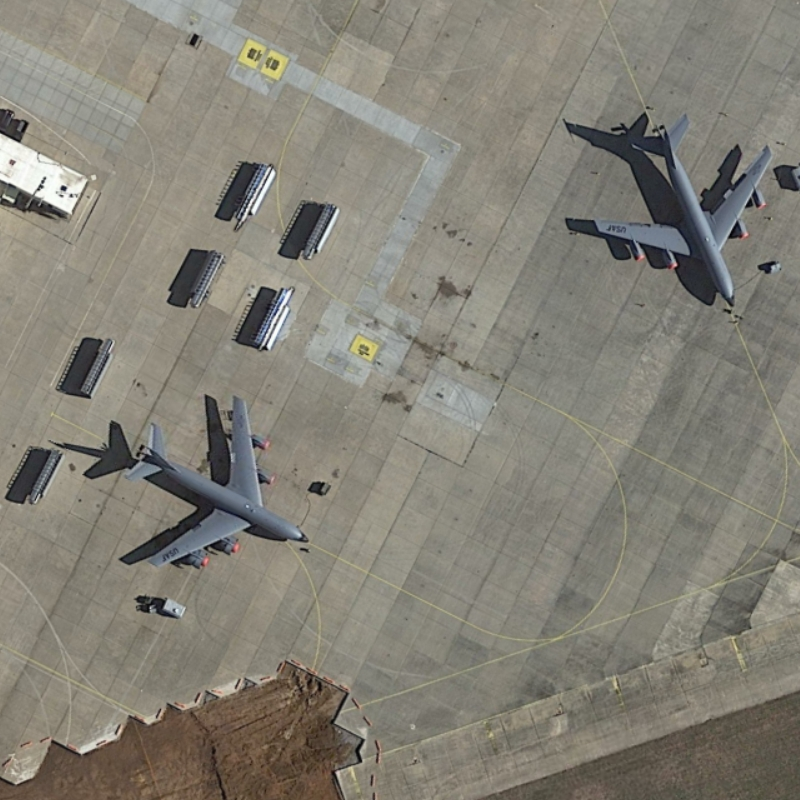A14: (589, 108, 778, 317), (118, 393, 316, 577)
